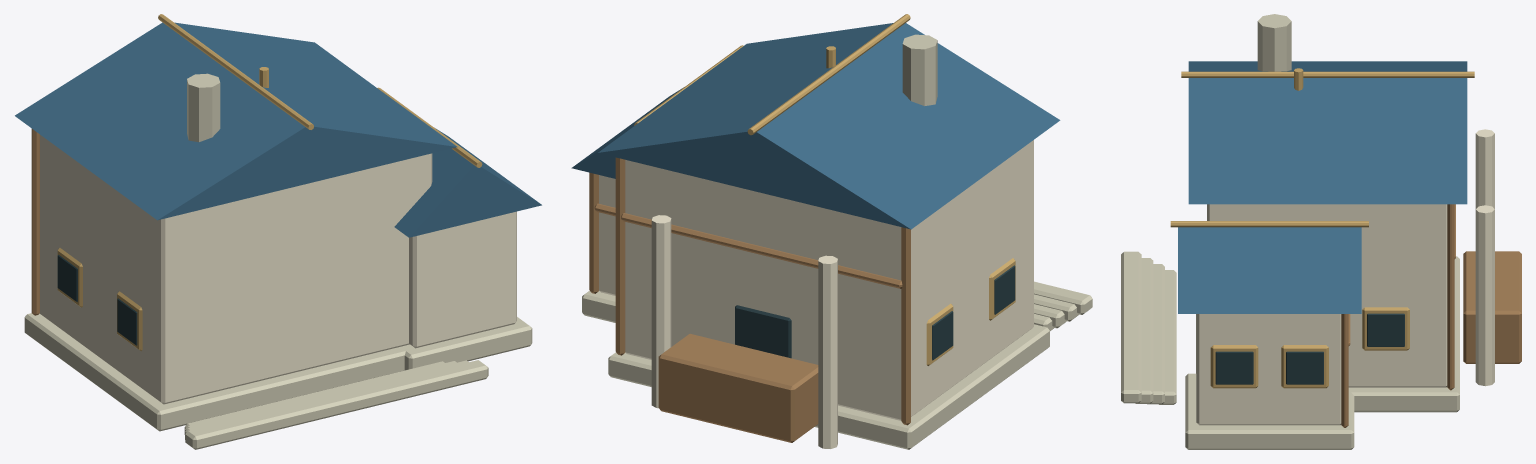
Rendered from level_29.glb.
3 views of the same model, side by side, from view 1: azimuth 30°, elevation 25°; view 2: azimuth 150°, elevation 25°; view 3: azimuth 270°, elevation 25° (orthographic). The views are drawn at different scales.
Visible parts, largest first — view 1: workshop — level 29; view 2: workshop — level 29; view 3: workshop — level 29.
Boxes of the visible parts, bbox=[...] form: workshop — level 29: bbox=[15, 14, 541, 449]; workshop — level 29: bbox=[571, 14, 1092, 449]; workshop — level 29: bbox=[1121, 14, 1521, 449].
Size of the model in its own units: 5.83 by 4.43 by 5.46.
